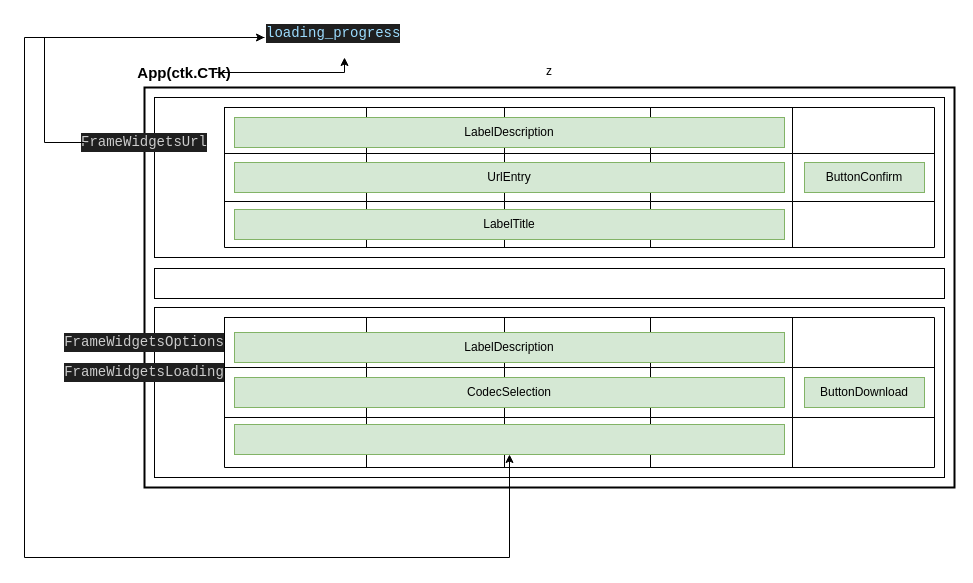
The diagram is 973 pixels wide and 583 high, and some of its shapes have lost their labels. Here are the shapes that lost their labels. From the top down, the box of each, then its label:
(154, 268, 944, 298): SeparatorHLine
(234, 424, 784, 454): ProgressBar
